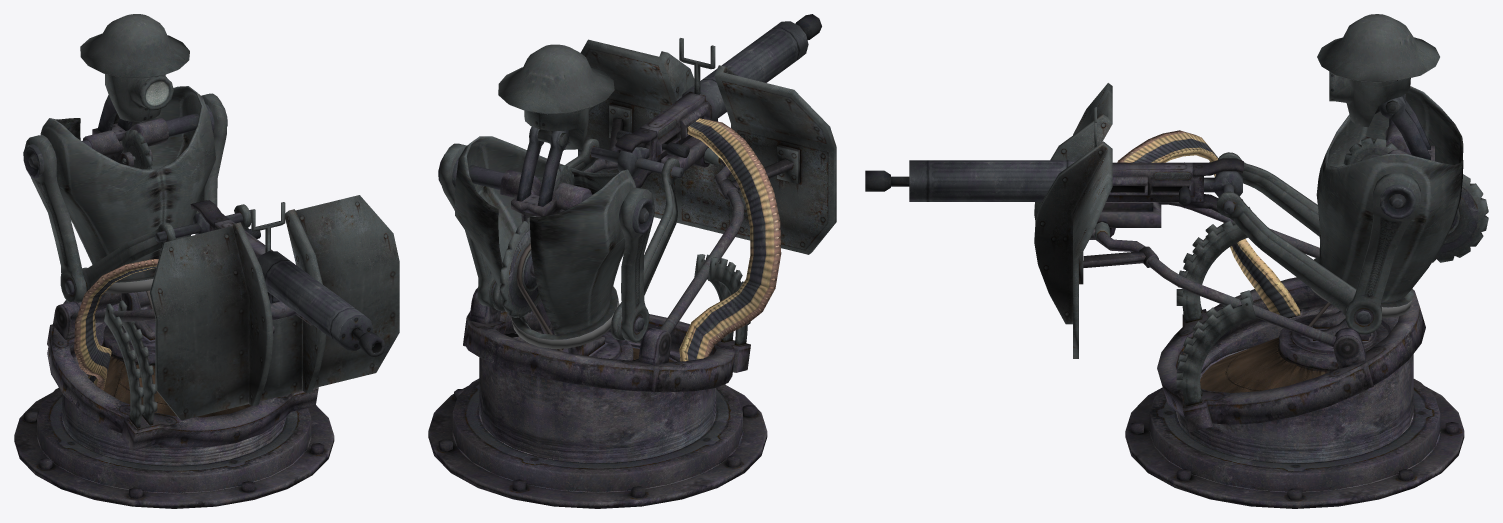
File: Automated_Turret.obj
3 renders of one model, left to right at view 1: azimuth 30°, elevation 25°; view 2: azimuth 150°, elevation 25°; view 3: azimuth 270°, elevation 25°, orthographic. The views are drawn at different scales.
Bounding box in the file's own units: 2.87 × 3.92 × 5.28.
2 materials, 2 textured.
